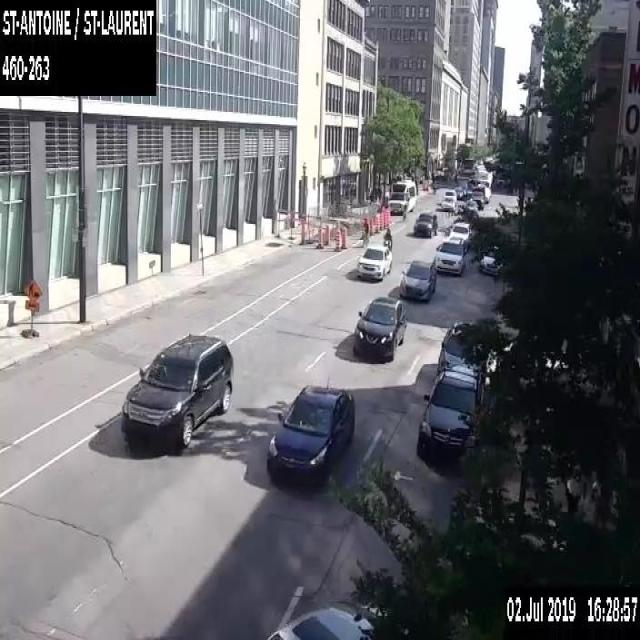construction: (274, 207, 306, 244), (22, 276, 44, 311), (306, 212, 325, 244), (316, 226, 324, 248), (333, 229, 341, 251), (340, 226, 347, 248), (324, 223, 330, 244), (378, 212, 384, 229), (359, 219, 364, 239), (369, 216, 374, 234), (366, 216, 370, 237), (382, 210, 387, 226), (374, 215, 378, 232), (386, 209, 390, 224)
cyclist: (383, 226, 392, 248), (362, 217, 368, 245), (402, 202, 406, 220)
vehicle: (121, 332, 233, 454), (266, 382, 356, 483), (417, 361, 483, 454), (266, 601, 386, 639), (353, 293, 407, 363), (436, 318, 485, 381), (399, 259, 436, 300), (356, 243, 392, 280), (434, 235, 466, 273), (386, 178, 416, 214), (479, 245, 503, 274), (448, 220, 472, 248), (475, 164, 492, 202), (413, 210, 436, 235), (435, 188, 456, 210), (471, 190, 484, 208), (465, 197, 478, 212), (452, 184, 463, 198), (457, 183, 466, 196)
